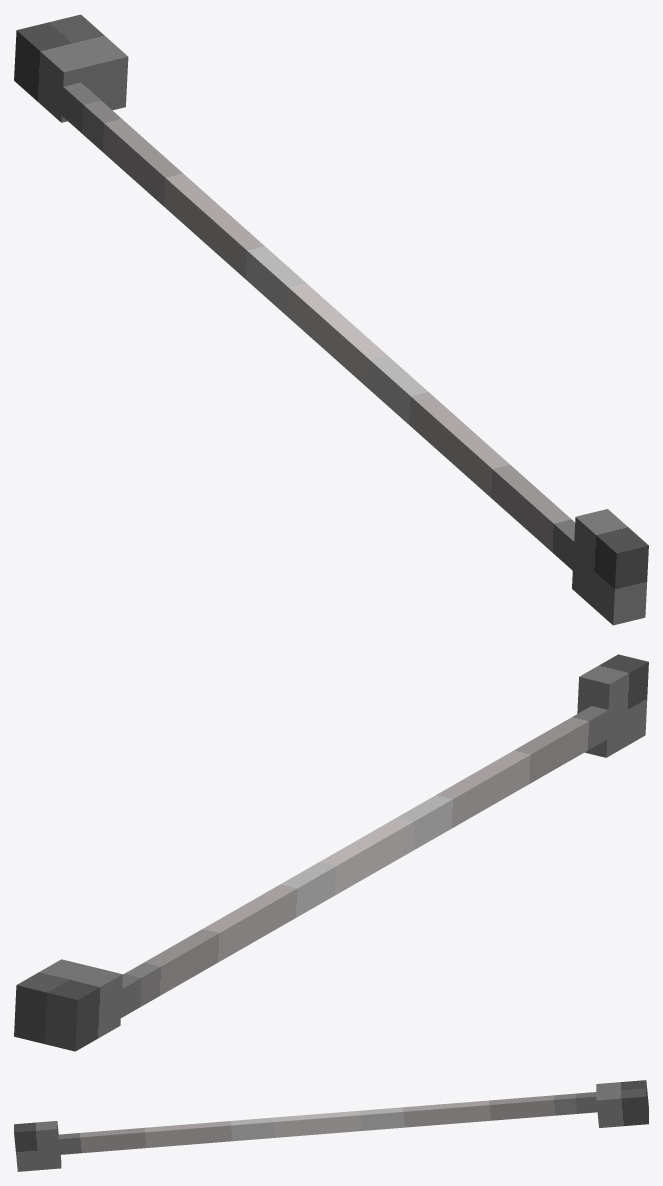
File: eccentric_rod_otherside.obj
3 renders of one model, top to bottom at view 1: azimuth 30°, elevation 25°; view 2: azimuth 150°, elevation 25°; view 3: azimuth 270°, elevation 25°, orthographic. The views are drawn at different scales.
Parts seen in each view (by area): view 1: 偏心杆; view 2: 偏心杆; view 3: 偏心杆.
Boxes of the visible parts, left/top/right/bottom form: 偏心杆: left=14, top=14, right=648, bottom=625; 偏心杆: left=14, top=654, right=648, bottom=1051; 偏心杆: left=14, top=1080, right=648, bottom=1171.
Size of the model in its own units: 0.1125 by 0.2644 by 1.82.
